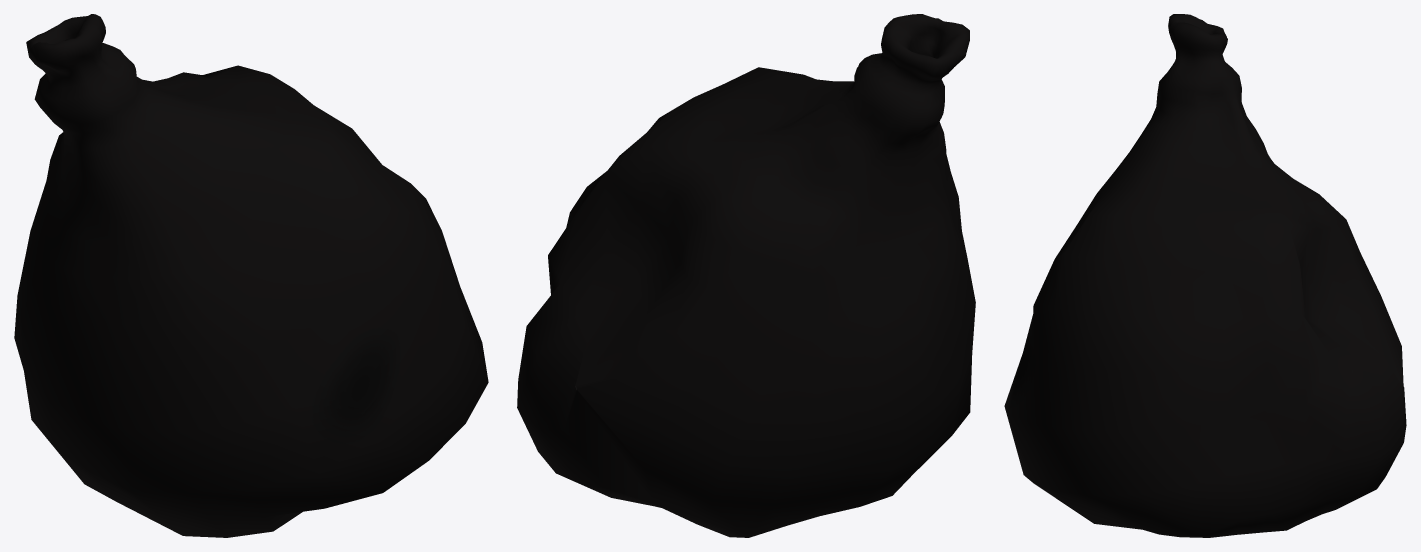
The model's file is recogible_funda.glb.
3 renders of one model, left to right at view 1: azimuth 30°, elevation 25°; view 2: azimuth 150°, elevation 25°; view 3: azimuth 270°, elevation 25°, orthographic. The views are drawn at different scales.
Parts seen in each view (by area): view 1: Object_2; view 2: Object_2; view 3: Object_2.
Part boxes in pixels (x1,y1,x2,y2): Object_2: [14, 14, 488, 537]; Object_2: [517, 14, 975, 537]; Object_2: [1004, 14, 1406, 537].
Bounding box in the file's own units: 176 × 208 × 177.
1 material, 1 textured.
